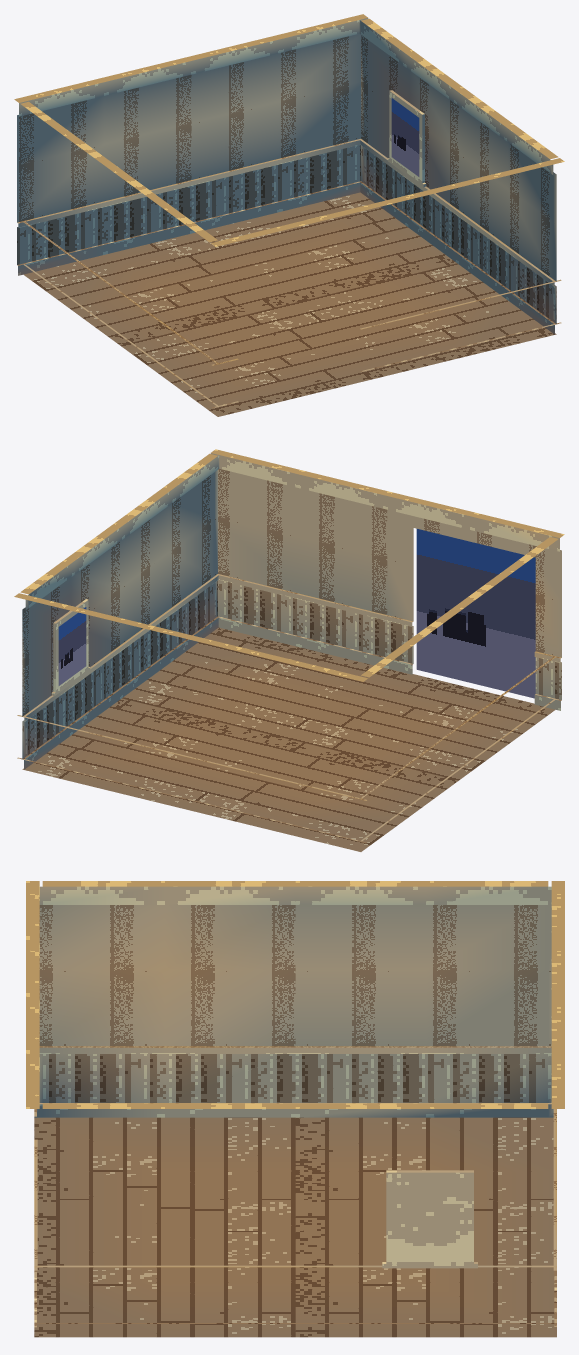
Rendered from wtown.room__office.glb.
3 renders of one model, top to bottom at view 1: azimuth 30°, elevation 25°; view 2: azimuth 150°, elevation 25°; view 3: azimuth 270°, elevation 25°, orthographic. The views are drawn at different scales.
Parts seen in each view (by area): view 1: kit_shell_walls, kit_shell_floor, kit_card_views, kit_windows; view 2: kit_shell_walls, kit_shell_floor, kit_card_door_views, kit_card_views, kit_windows; view 3: kit_shell_walls, kit_shell_floor, kit_windows.
Part boxes in pixels (bbox=[...]): kit_shell_walls: bbox=[14, 14, 564, 408]; kit_shell_floor: bbox=[24, 192, 556, 416]; kit_card_views: bbox=[391, 98, 419, 176]; kit_windows: bbox=[388, 90, 426, 187]; kit_shell_walls: bbox=[14, 449, 564, 843]; kit_shell_floor: bbox=[22, 627, 555, 851]; kit_card_door_views: bbox=[416, 529, 535, 698]; kit_card_views: bbox=[58, 607, 86, 685]; kit_windows: bbox=[51, 599, 90, 696]; kit_shell_walls: bbox=[26, 881, 564, 1327]; kit_shell_floor: bbox=[34, 1117, 556, 1337]; kit_windows: bbox=[382, 1170, 477, 1268].
Size of the model in its own units: 8 by 3.85 by 8.18.
Materials: 6 (6 with a texture image).
